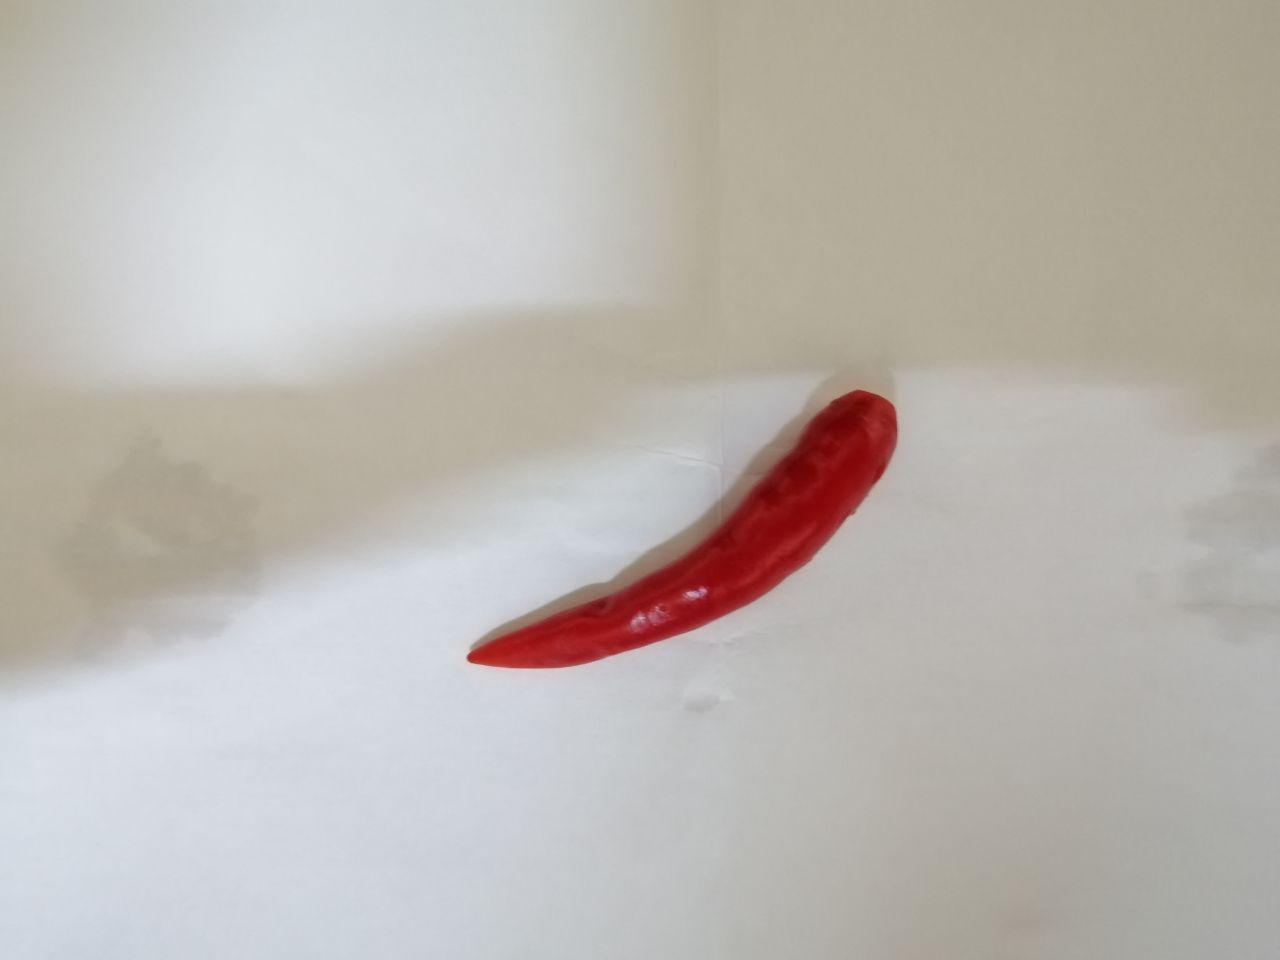lada merah: (450, 374, 927, 699)
